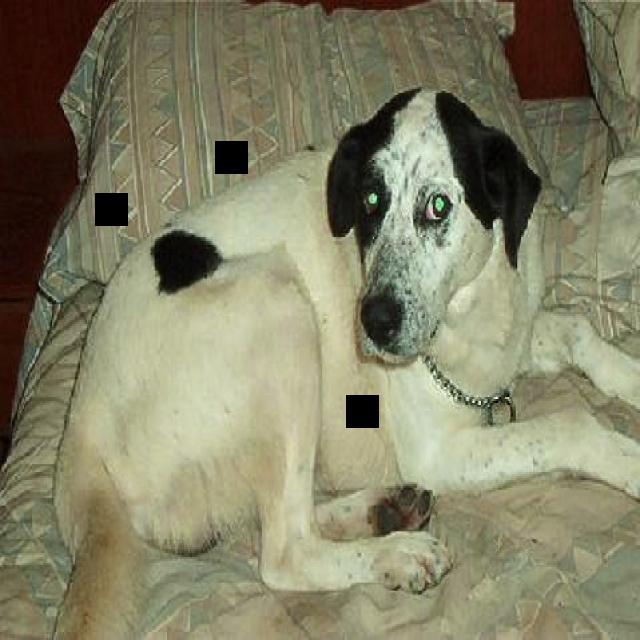adult_dog: (39, 88, 640, 640)
